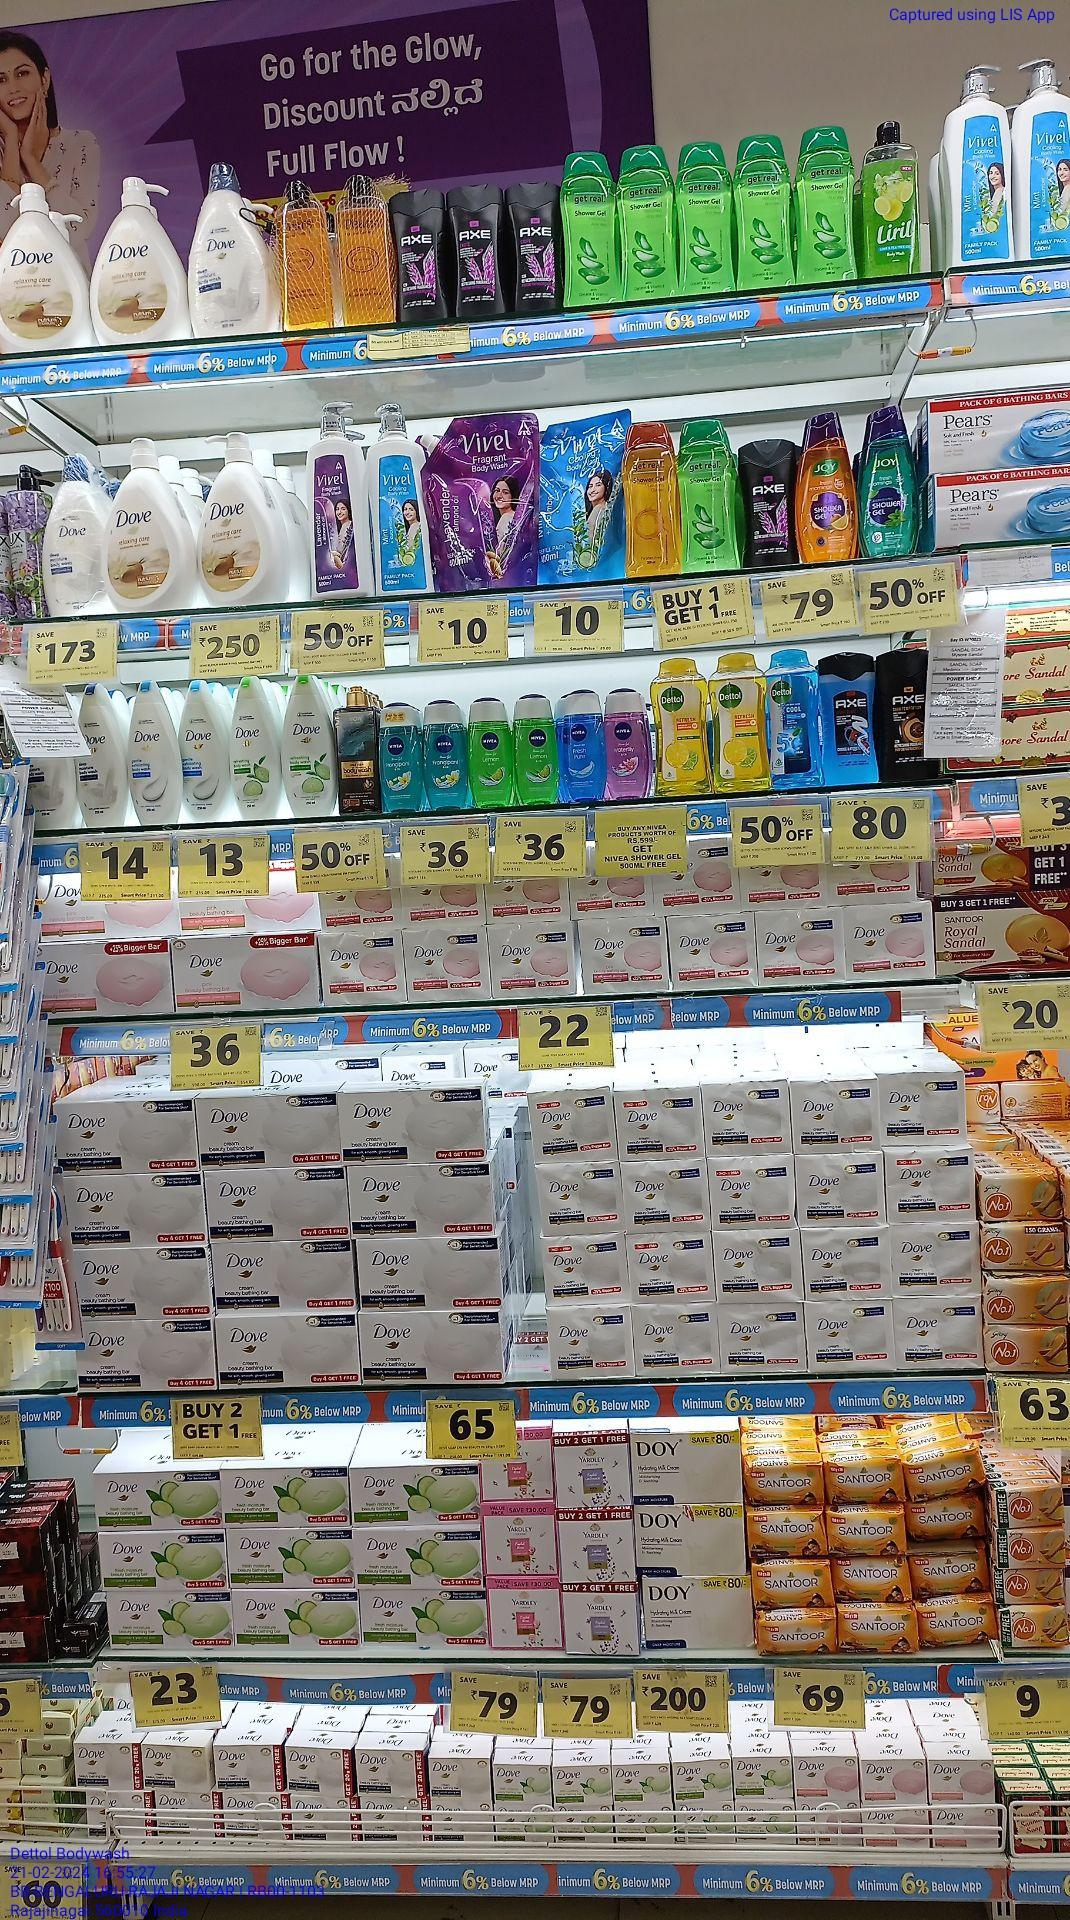Dettol_Bodywash_Refresh: (650, 655, 712, 796), (708, 651, 767, 795), (767, 647, 824, 792)
Dove_Deep_Moisture_Body_Wash_250ML: (74, 681, 124, 828)
Dove_Gentle_Exfoliating_Body_Wash_250ML: (127, 677, 181, 825), (181, 679, 229, 821)
Dove_Refreshing_Body_Wash_250ML: (281, 676, 335, 816), (229, 676, 279, 820)
Get_Real_Shower_Gel_Moisturising_Glycerin_300ML: (619, 420, 679, 579)
Joy_Shower_Gel_Mandarin_and_Lemongrass_250ML: (793, 407, 859, 565)
Joy_Shower_Gel_Mint_and_Eucalyptus_250ML: (859, 403, 918, 560)
Nivea_Shower_Gel_Frangipani_and_Oil_250ML: (422, 697, 468, 810), (377, 701, 422, 813)
Nivea_Shower_Gel_Lemon_and_Oil_250ML: (466, 696, 515, 809), (514, 693, 560, 805)
Nivea_Shower_Gel_Waterlily_and_Oil_250ML: (604, 687, 651, 800)
